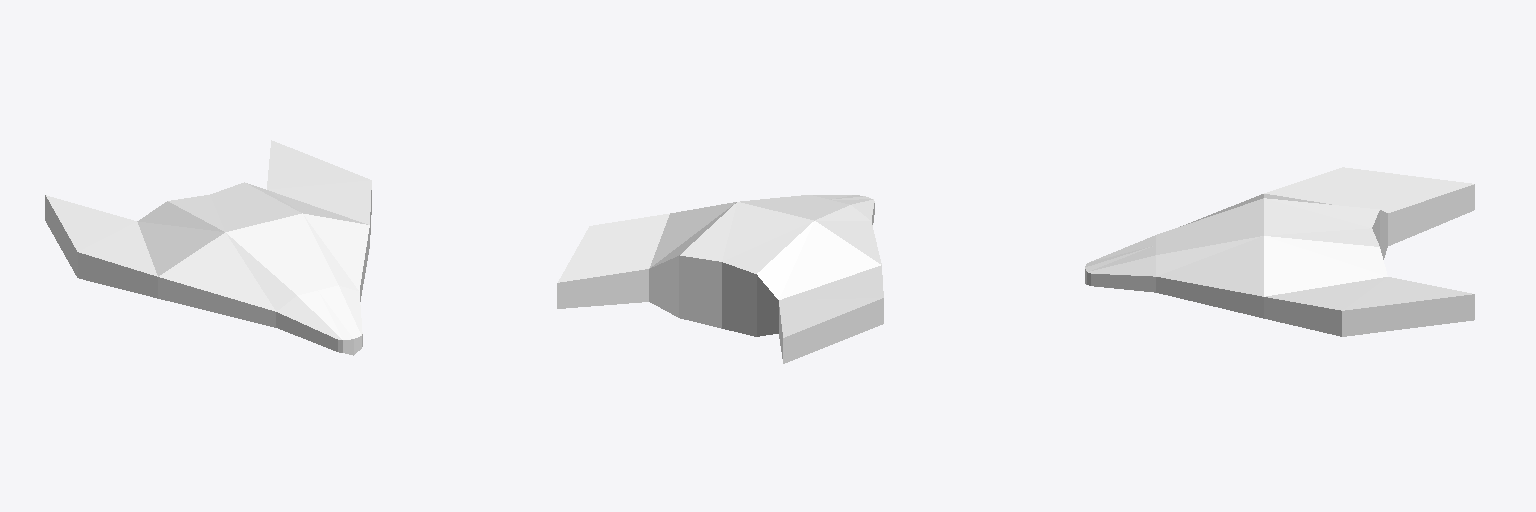
The model's file is ship.obj.
3 renders of one model, left to right at view 1: azimuth 30°, elevation 25°; view 2: azimuth 150°, elevation 25°; view 3: azimuth 270°, elevation 25°, orthographic.
Visible parts, largest first — view 1: cube1; view 2: cube1; view 3: cube1.
Part boxes in pixels (x1,y1,x2,y2): cube1: (45, 140, 371, 355); cube1: (557, 195, 883, 363); cube1: (1085, 167, 1474, 336).
Bounding box in the file's own units: 4.57 × 1.16 × 5.25.